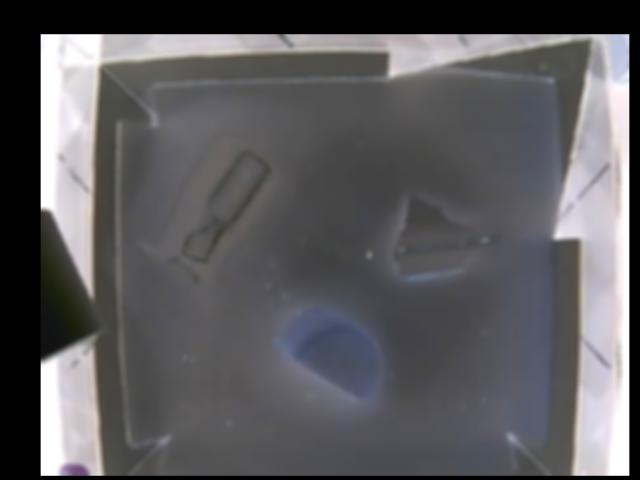Bottle: (136, 141, 282, 293)
China: (392, 193, 500, 277)
Mooli: (274, 308, 384, 394)
